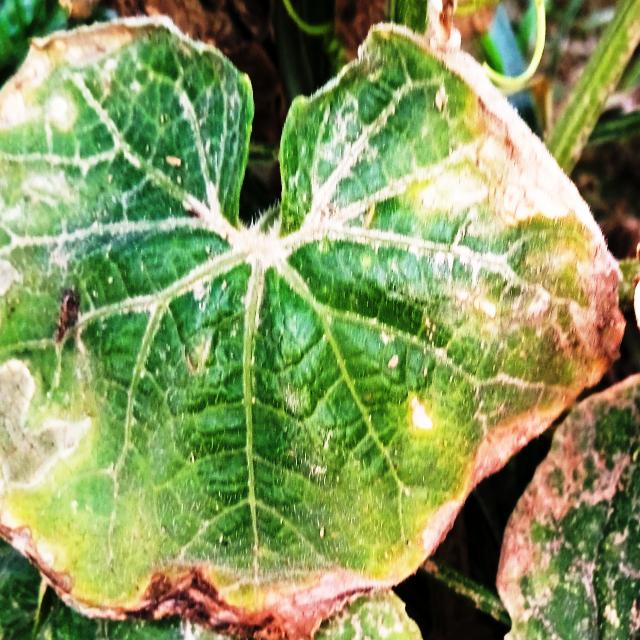Gummy-Stem-Blight: (1, 357, 390, 640), (390, 17, 630, 391), (412, 404, 571, 572)
